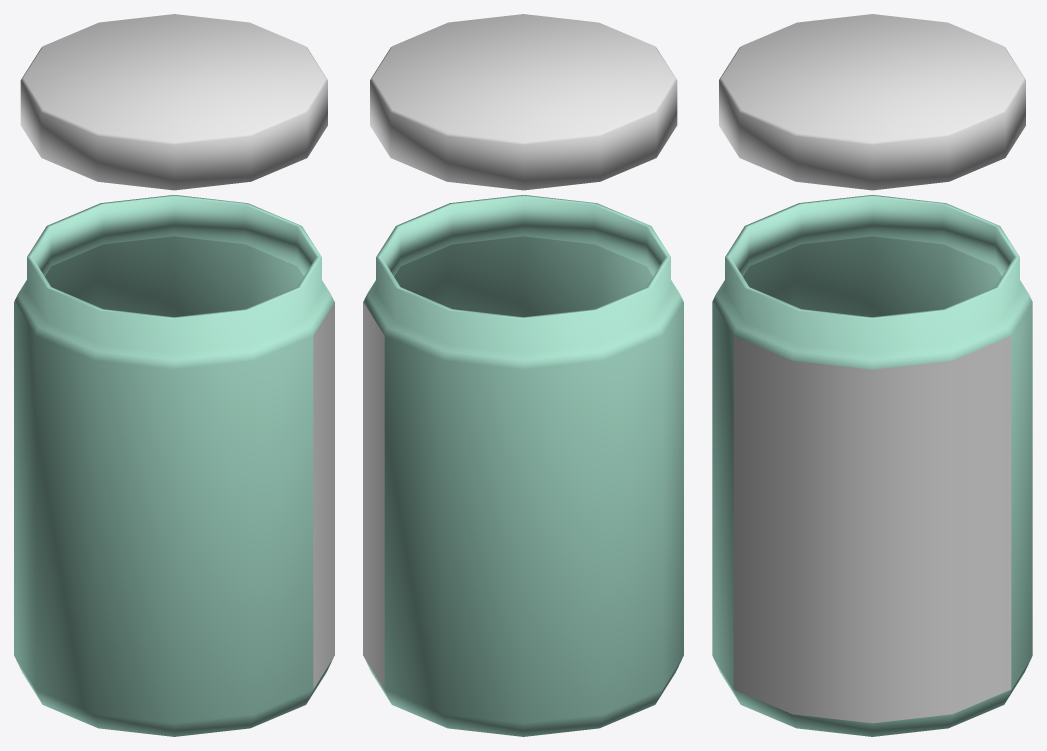
Rendered from I_Yeast Bot&Cap.fbx.
3 renders of one model, left to right at view 1: azimuth 30°, elevation 25°; view 2: azimuth 150°, elevation 25°; view 3: azimuth 270°, elevation 25°, orthographic.
Visible parts, largest first — view 1: I_YeastBottle, I_YeastBottleCap; view 2: I_YeastBottle, I_YeastBottleCap; view 3: I_YeastBottle, I_YeastBottleCap.
Boxes of the visible parts, x1,y1,x2,y2 form: I_YeastBottle: (14, 195, 334, 736); I_YeastBottleCap: (20, 14, 327, 190); I_YeastBottle: (363, 195, 683, 736); I_YeastBottleCap: (370, 14, 677, 190); I_YeastBottle: (712, 195, 1032, 736); I_YeastBottleCap: (719, 14, 1025, 190).
Bounding box in the file's own units: 12.57 × 26.04 × 12.56.
